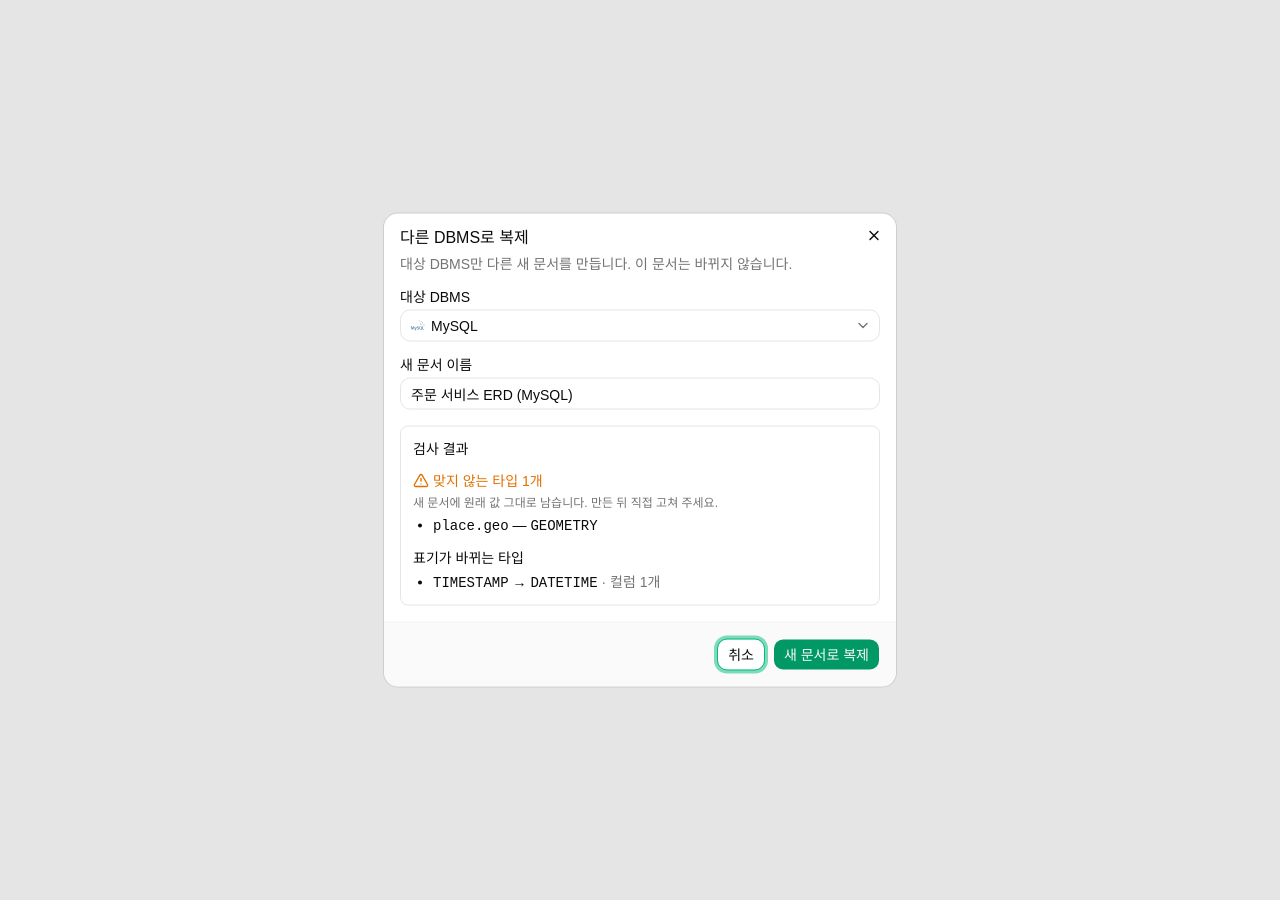
Scenario: ConvertDbmsDialog — 생성 › 이름 중복(409)은 다이얼로그 안에서 안내하고 닫지 않는다
The width and height of the screenshot is (1280, 900).
Expected: the field labelled "새 문서 이름" holds "주문 서비스 ERD (MySQL)", [400, 378, 880, 410]
Step 1. Click the button "새 문서로 복제" → (826, 654), box [773, 638, 880, 670]
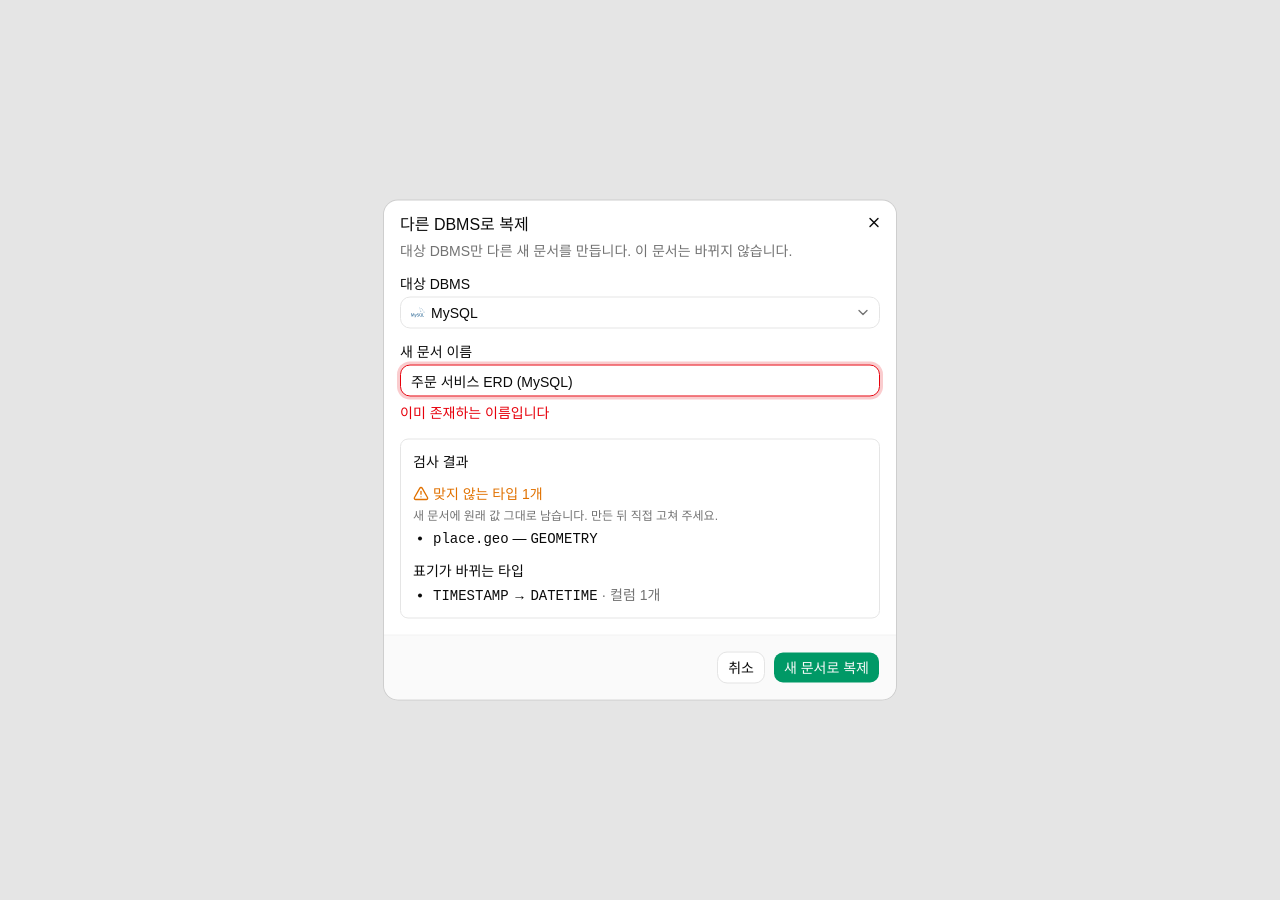
Expected: the message "이미 존재하는 이름입니다" is shown, [400, 404, 550, 420]
